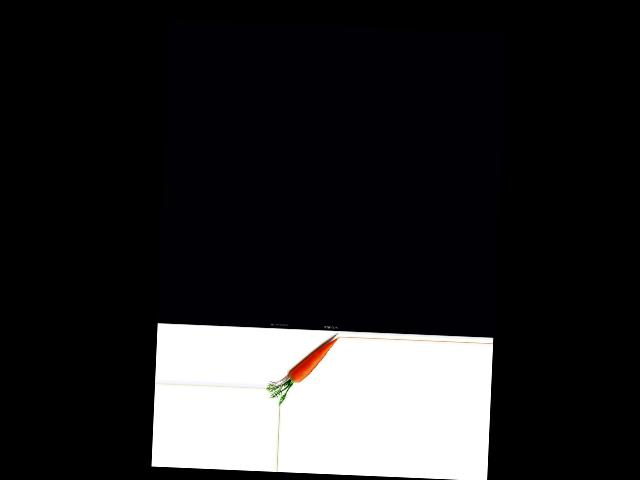carrot: (281, 333, 338, 397)
